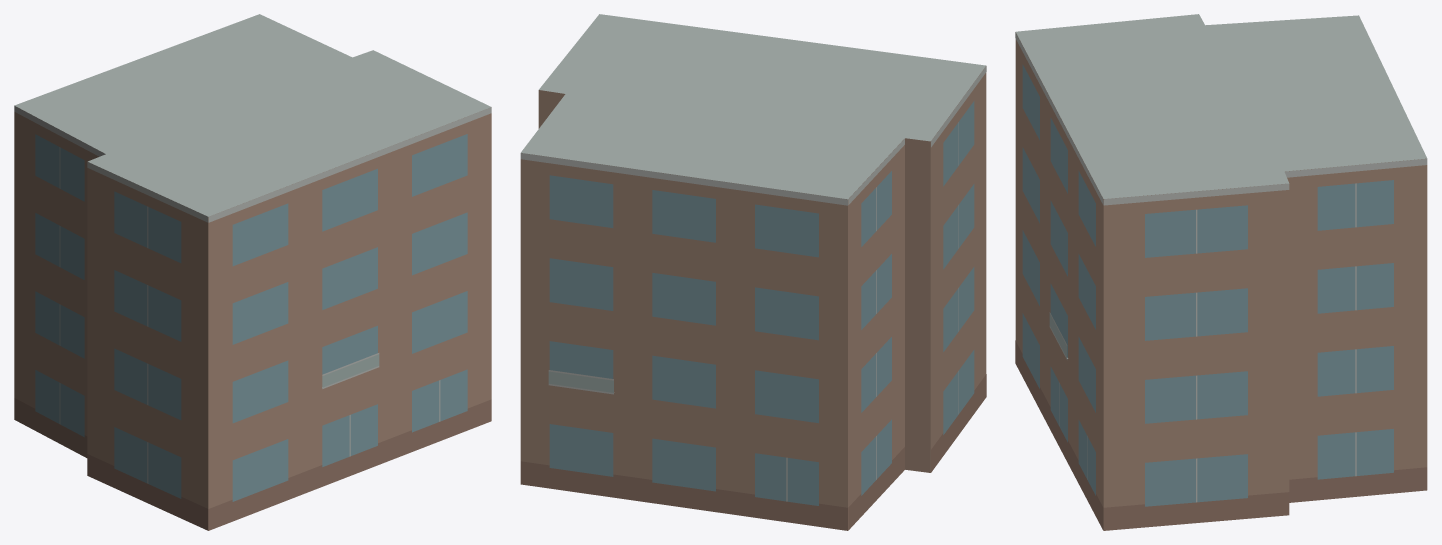
Rendered from survey-upis-32740415.glb.
The picture shows the model from 3 angles, left to right: view 1: azimuth 30°, elevation 25°; view 2: azimuth 150°, elevation 25°; view 3: azimuth 270°, elevation 25°; orthographic projection. The views are drawn at different scales.
Parts seen in each view (by area): view 1: survey-upis-32740415.tmp; view 2: survey-upis-32740415.tmp; view 3: survey-upis-32740415.tmp.
Part boxes in pixels (x1=…): survey-upis-32740415.tmp: x1=14, y1=14, x2=491, y2=530; survey-upis-32740415.tmp: x1=520, y1=14, x2=986, y2=530; survey-upis-32740415.tmp: x1=1015, y1=14, x2=1427, y2=530.
Size of the model in its own units: 15.09 by 12.6 by 14.19.
